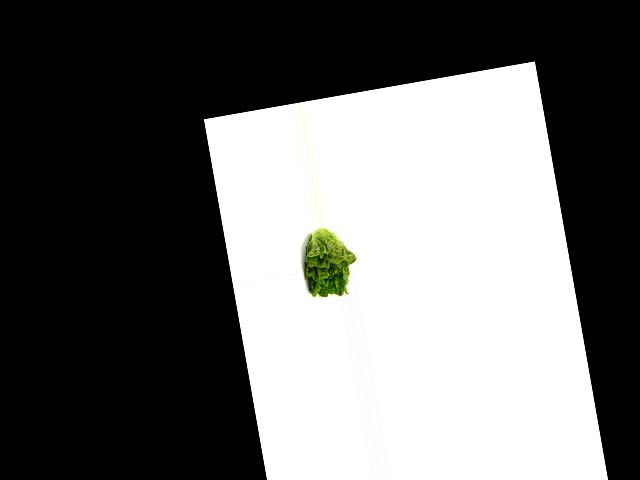lettuce: (293, 223, 360, 301)
